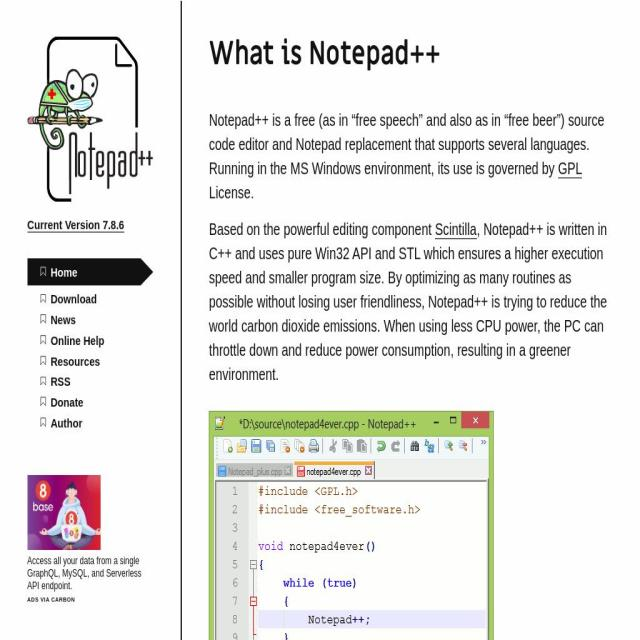button: (27, 475, 154, 553), (27, 555, 154, 593), (27, 258, 154, 286), (27, 312, 154, 328), (27, 332, 154, 348), (27, 374, 154, 389), (27, 395, 154, 410), (27, 415, 154, 430), (27, 190, 153, 205), (27, 292, 154, 306), (27, 354, 154, 368), (27, 218, 124, 234), (27, 597, 154, 604), (434, 219, 477, 239), (0, 0, 640, 1), (557, 159, 582, 179)
heading: (209, 36, 613, 72)
image: (209, 410, 494, 640), (27, 36, 154, 202), (27, 475, 101, 551)
link: (27, 218, 124, 232)
text: (208, 219, 608, 383), (209, 111, 605, 178), (208, 220, 436, 238), (50, 332, 105, 348), (209, 184, 254, 202), (50, 354, 101, 368), (50, 292, 97, 306), (50, 395, 84, 410), (50, 415, 82, 430), (50, 264, 78, 279), (50, 312, 76, 328), (50, 374, 71, 389)
